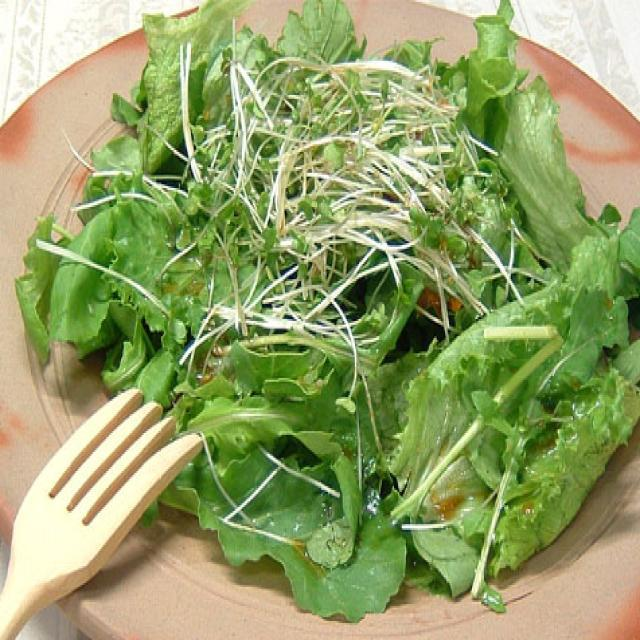Green Salad: (42, 32, 618, 568)
